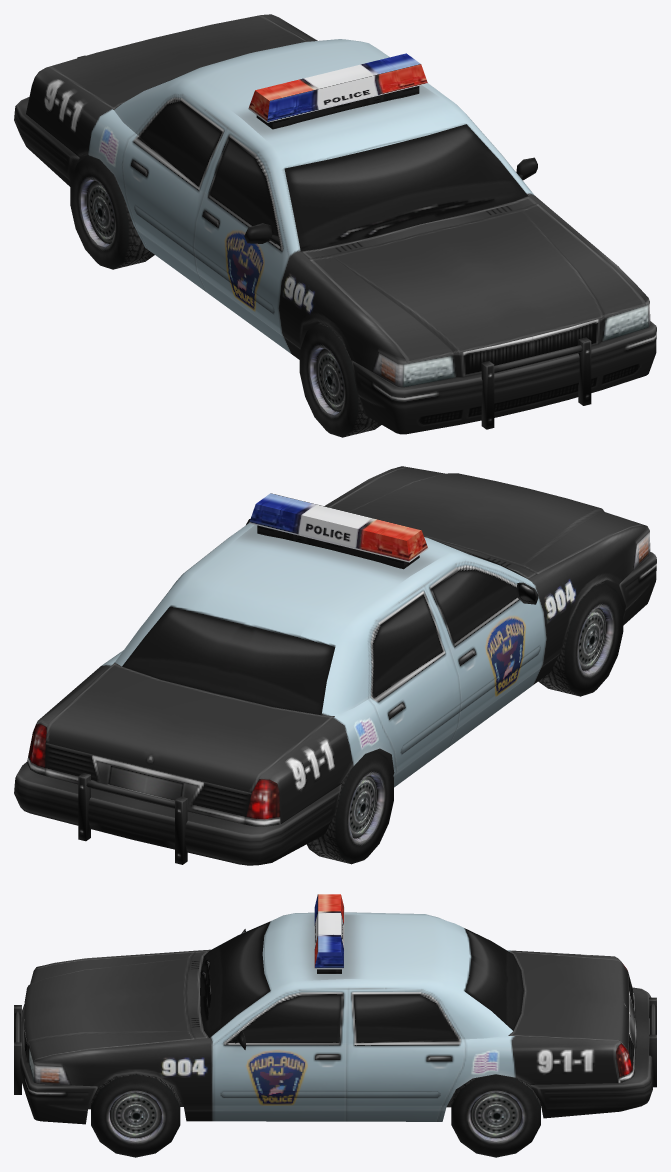
Rendered from traf_police.fbx.
3 renders of one model, top to bottom at view 1: azimuth 30°, elevation 25°; view 2: azimuth 150°, elevation 25°; view 3: azimuth 270°, elevation 25°, orthographic. The views are drawn at different scales.
Parts seen in each view (by area): view 1: traf_police; view 2: traf_police; view 3: traf_police.
Part boxes in pixels (x1,y1,x2,y2): traf_police: (14,14,656,437); traf_police: (14,466,656,865); traf_police: (14,894,656,1157).
Size of the model in its own units: 206 by 157 by 496.
